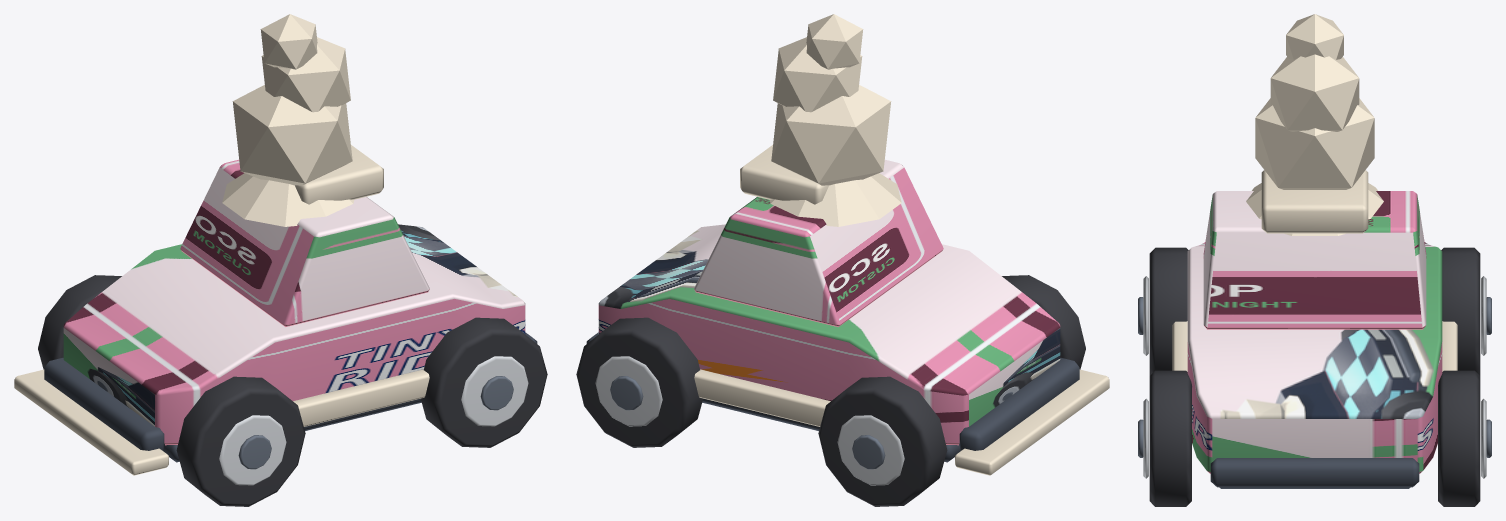
The picture shows the model from 3 angles, left to right: view 1: azimuth 30°, elevation 25°; view 2: azimuth 150°, elevation 25°; view 3: azimuth 270°, elevation 25°; orthographic projection. The views are drawn at different scales.
Parts seen in each view (by area): view 1: SS-01_connected_shell, SS-01_cabin, Tire, Tire.002, ice cream swirl 1, custom chin, ice cream swirl 2, ice cream base, front bumper, custom side guard, Rim, Rim.002 (+6 smaller); view 2: SS-01_connected_shell, SS-01_cabin, Tire.001, Tire.003, ice cream swirl 1, custom chin, ice cream swirl 2, ice cream base, front bumper, custom side guard.001, Rim.001, Rim.003 (+6 smaller); view 3: SS-01_connected_shell, SS-01_cabin, ice cream swirl 1, rear bumper, ice cream swirl 2, Tire.002, Tire.003, custom equipment, Tire, Tire.001, ice cream swirl 3, ice cream base (+6 smaller).
Boxes of the visible parts, x1,y1,x2,y2 form: SS-01_connected_shell: (63, 224, 525, 445); SS-01_cabin: (180, 159, 429, 326); Tire: (176, 376, 305, 506); Tire.002: (421, 317, 547, 447); ice cream swirl 1: (232, 85, 352, 185); custom chin: (14, 369, 168, 475); ice cream swirl 2: (261, 37, 350, 112); ice cream base: (222, 173, 354, 226); front bumper: (44, 358, 164, 450); custom side guard: (293, 369, 429, 426); Rim: (219, 415, 286, 485); Rim.002: (461, 356, 528, 426); SS-01_connected_shell: (598, 224, 1060, 445); SS-01_cabin: (694, 159, 943, 326); Tire.001: (818, 376, 947, 506); Tire.003: (576, 317, 702, 447); ice cream swirl 1: (771, 85, 891, 185); custom chin: (955, 369, 1109, 475); ice cream swirl 2: (773, 37, 862, 112); ice cream base: (769, 173, 901, 226); front bumper: (959, 358, 1079, 450); custom side guard.001: (694, 369, 830, 426); Rim.001: (837, 415, 904, 485); Rim.003: (595, 356, 662, 426); SS-01_connected_shell: (1187, 242, 1442, 473); SS-01_cabin: (1203, 191, 1426, 329); ice cream swirl 1: (1255, 98, 1374, 189); rear bumper: (1210, 458, 1419, 487); ice cream swirl 2: (1270, 54, 1359, 131); Tire.002: (1149, 370, 1191, 506); Tire.003: (1438, 370, 1480, 506); custom equipment: (1261, 170, 1368, 233); Tire: (1149, 247, 1188, 375); Tire.001: (1441, 247, 1480, 375); ice cream swirl 3: (1286, 14, 1343, 59); ice cream base: (1246, 183, 1383, 235).
Bounding box in the file's own units: 307 × 287 × 217.
